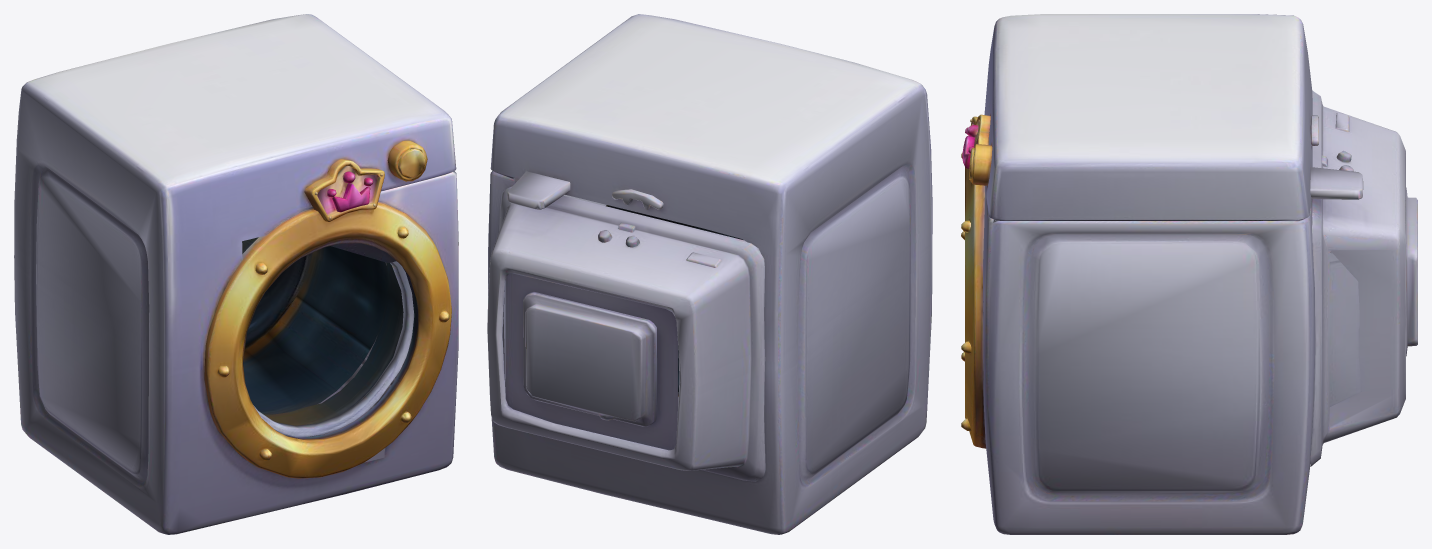
The model's file is washer_user_1k_lod.glb.
3 views of the same model, side by side, from view 1: azimuth 30°, elevation 25°; view 2: azimuth 150°, elevation 25°; view 3: azimuth 270°, elevation 25° (orthographic). The views are drawn at different scales.
Parts seen in each view (by area): view 1: tripo_node_5f8fd297-4f69-4fe1-81ce-81a43776f53f; view 2: tripo_node_5f8fd297-4f69-4fe1-81ce-81a43776f53f; view 3: tripo_node_5f8fd297-4f69-4fe1-81ce-81a43776f53f.
Boxes of the visible parts, x1,y1,x2,y2 form: tripo_node_5f8fd297-4f69-4fe1-81ce-81a43776f53f: (14, 14, 458, 534); tripo_node_5f8fd297-4f69-4fe1-81ce-81a43776f53f: (487, 14, 932, 534); tripo_node_5f8fd297-4f69-4fe1-81ce-81a43776f53f: (961, 14, 1417, 534).
Size of the model in its own units: 0.7964 by 0.9243 by 0.9995.
1 material, 1 textured.
